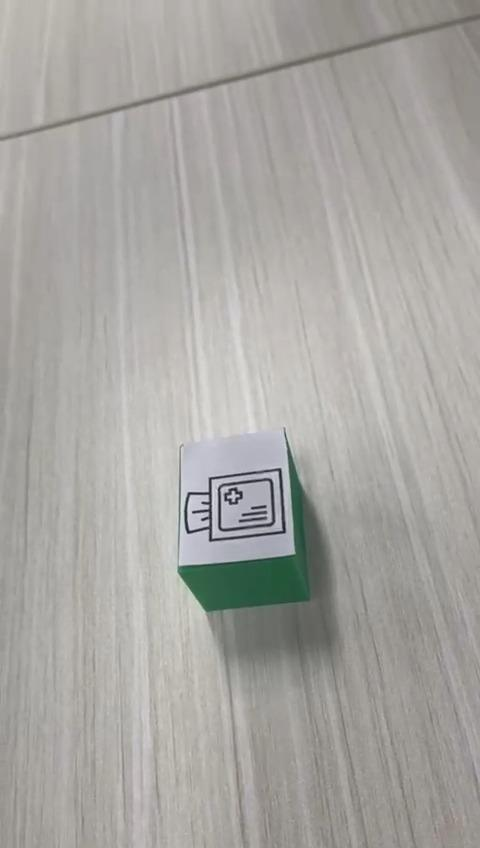Gauze: (175, 425, 311, 613)
